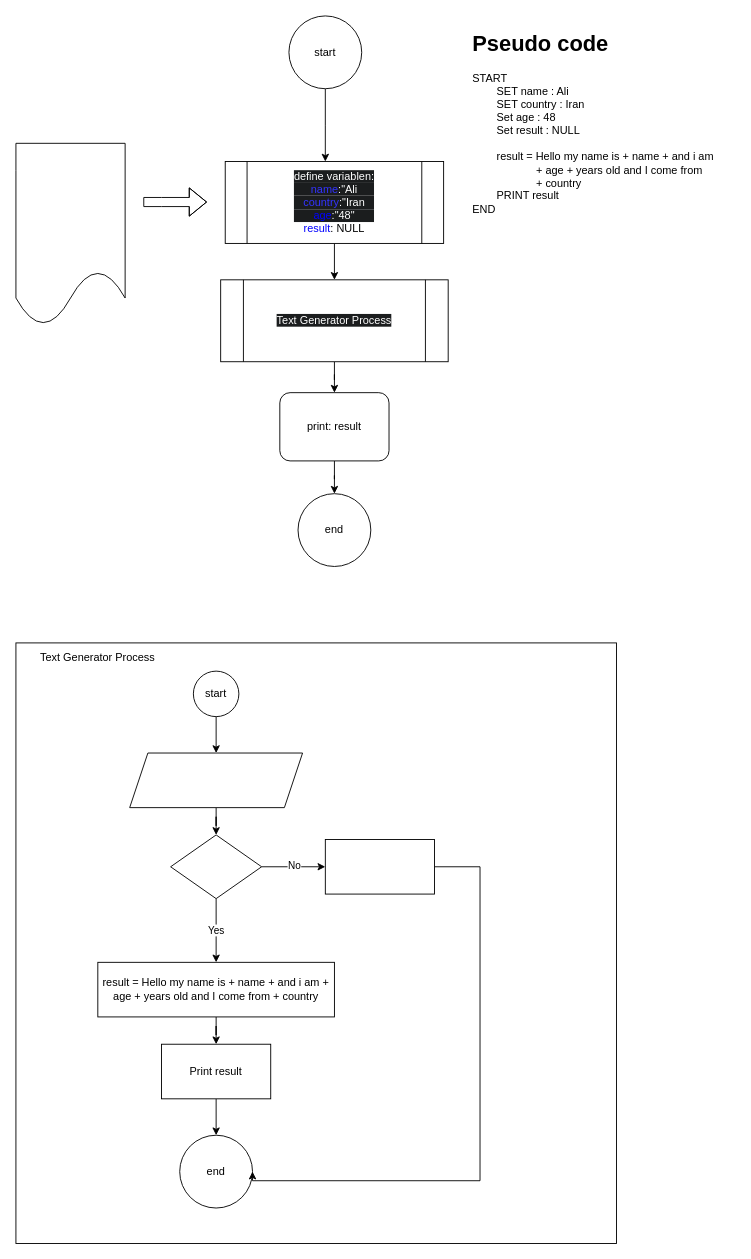
Some shapes in this 751 by 1259 pixel diagram are drawn without their labels. Each missing label, with the centre of its shape:
all input exist: point 216,866
input: name, country ,age: point 216,780
Print: error: point 379,866
Process: means when your app shall do something itself: point 70,233
